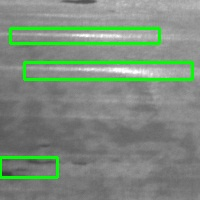inclusion: (1, 157, 57, 177)
scratches: (24, 62, 192, 79), (10, 28, 159, 43)
